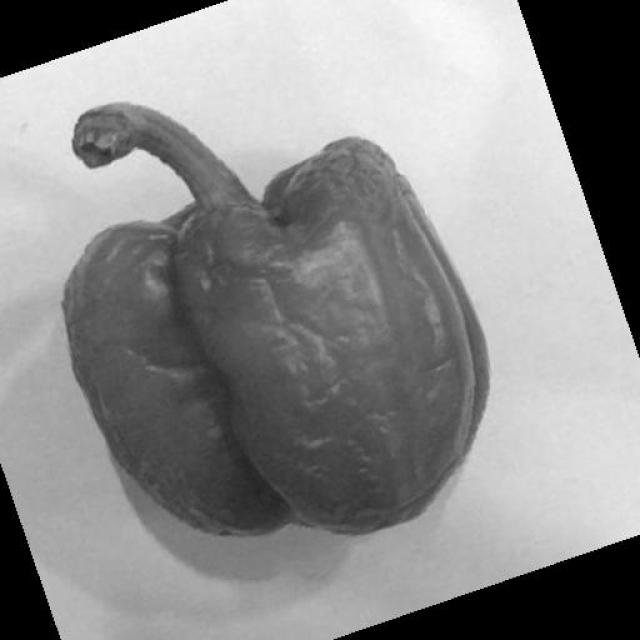Stale_Capsicum: (34, 184, 527, 538)
